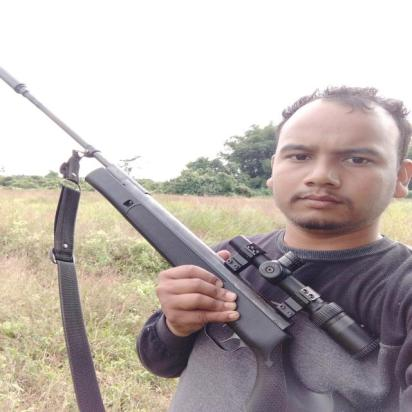Gun: (0, 65, 384, 412)
